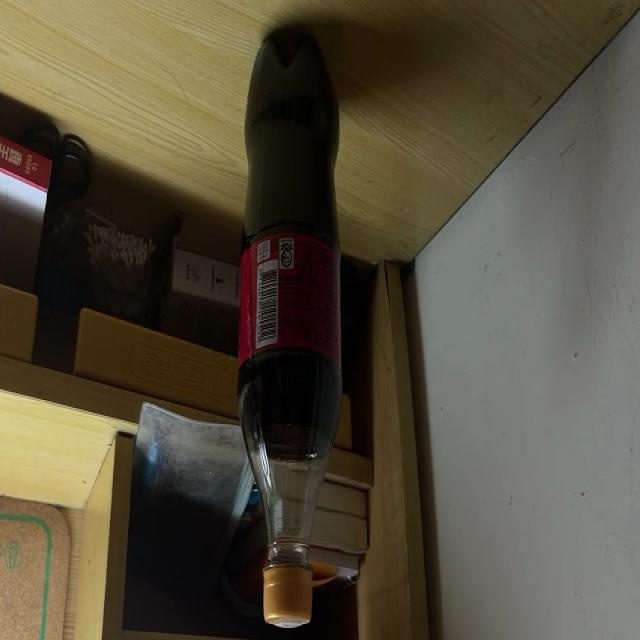Coca-Cola: (239, 19, 341, 628)
